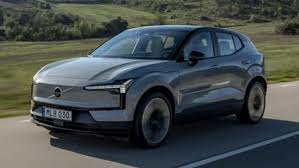car: (29, 22, 272, 147)
